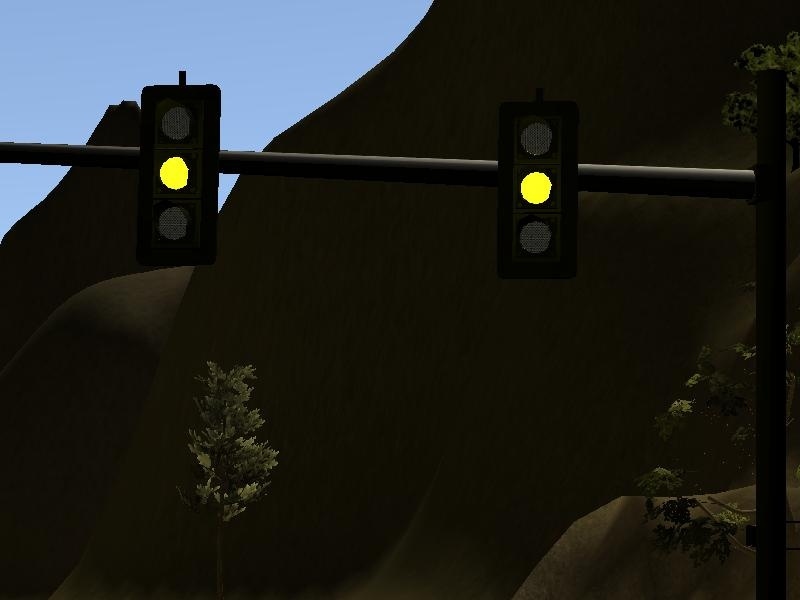yellow: (130, 73, 227, 273), (490, 87, 586, 287)
